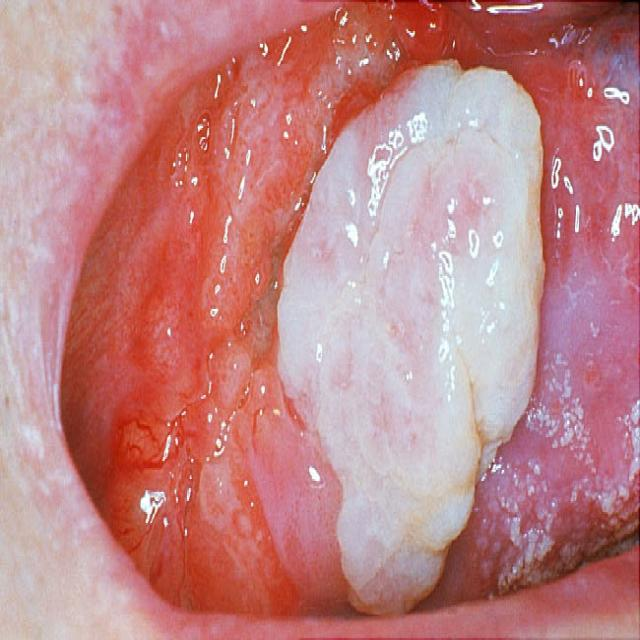left_region: (56, 4, 637, 618)
